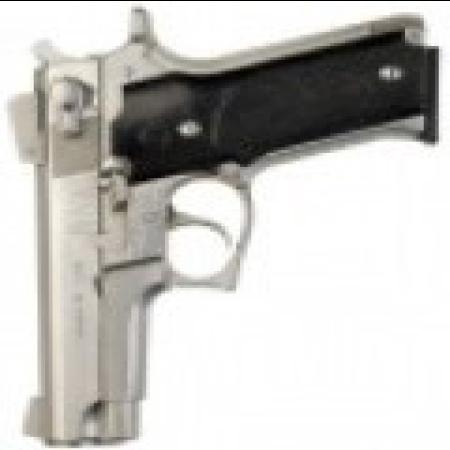Pistol: (11, 9, 435, 448)
